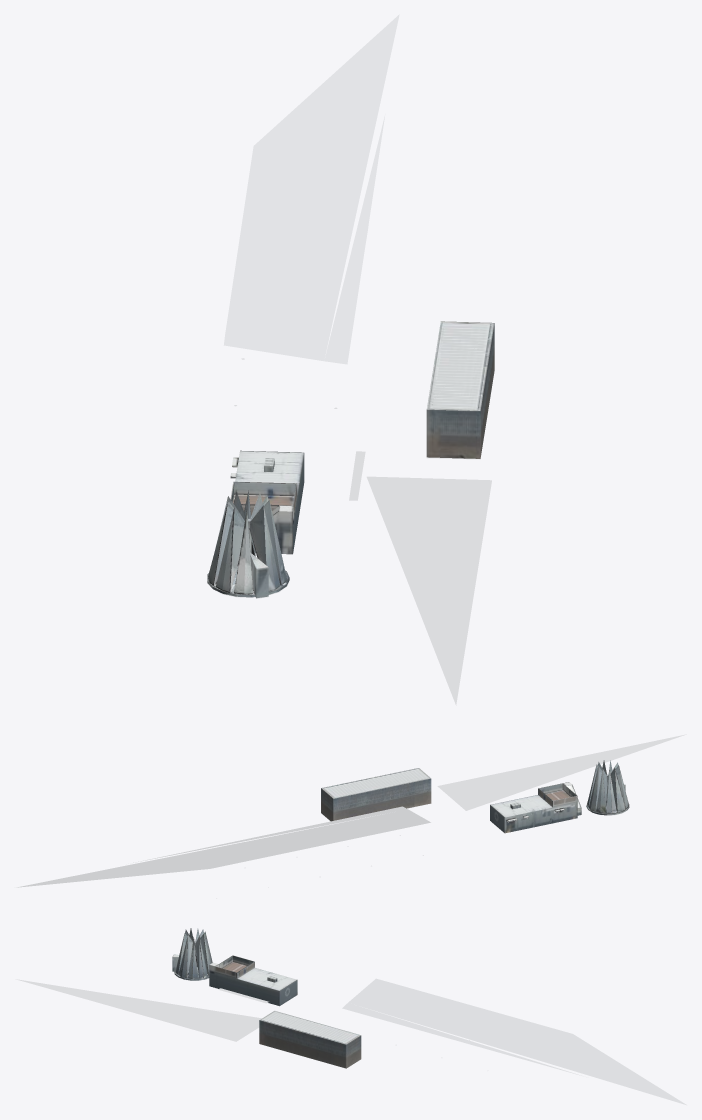
The picture shows the model from 3 angles, top to bottom: view 1: azimuth 30°, elevation 25°; view 2: azimuth 150°, elevation 25°; view 3: azimuth 270°, elevation 25°; orthographic projection. The views are drawn at different scales.
Parts seen in each view (by area): view 1: Buildings_建物パビリオン; view 2: Buildings_建物パビリオン; view 3: Buildings_建物パビリオン.
Part boxes in pixels (x1,y1,x2,y2): Buildings_建物パビリオン: (207, 14, 494, 705); Buildings_建物パビリオン: (16, 734, 686, 898); Buildings_建物パビリオン: (15, 928, 686, 1105).
Bounding box in the file's own units: 71.17 × 8.31 × 122.
Materials: 4 (3 with a texture image).
